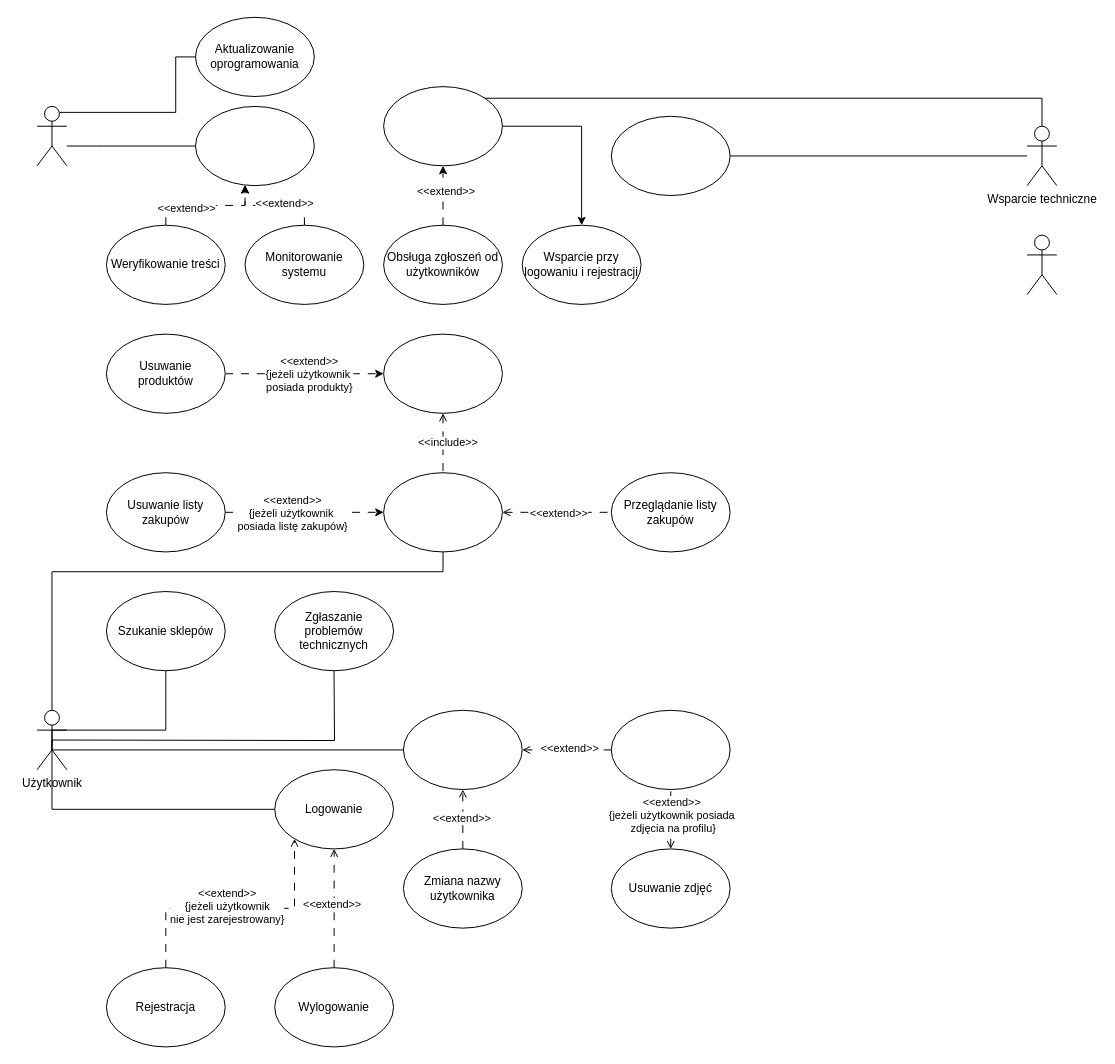
The diagram is 1115 pixels wide and 1064 high, and some of its shapes have lost their labels. The shapes that lost their labels are listed below. From the top down, each one's centre as x and y in pixels, then its label:
At point (51, 135): "Administrator".
At point (254, 145): "Zarządzanie systemem".
At point (442, 126): "Zarządzanie użytkownikami".
At point (670, 155): "Rozwiązywanie problemów technicznych".
At point (1041, 264): "Sponsorzy/Reklamy?".
At point (442, 373): "Dodawanie produktów".
At point (442, 512): "Tworzenie listy zakupów".
At point (462, 749): "Zarządzanie profilem".
At point (670, 749): "Dodawanie zdjęć".
